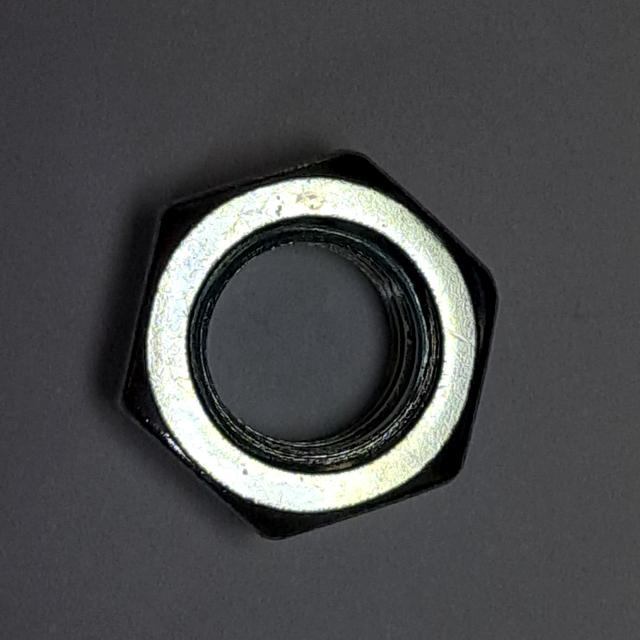Excellent: (102, 141, 511, 550)
